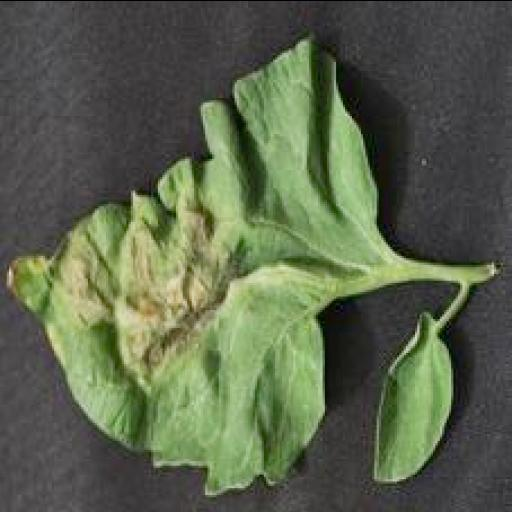disease_tomato: (2, 24, 476, 498)
